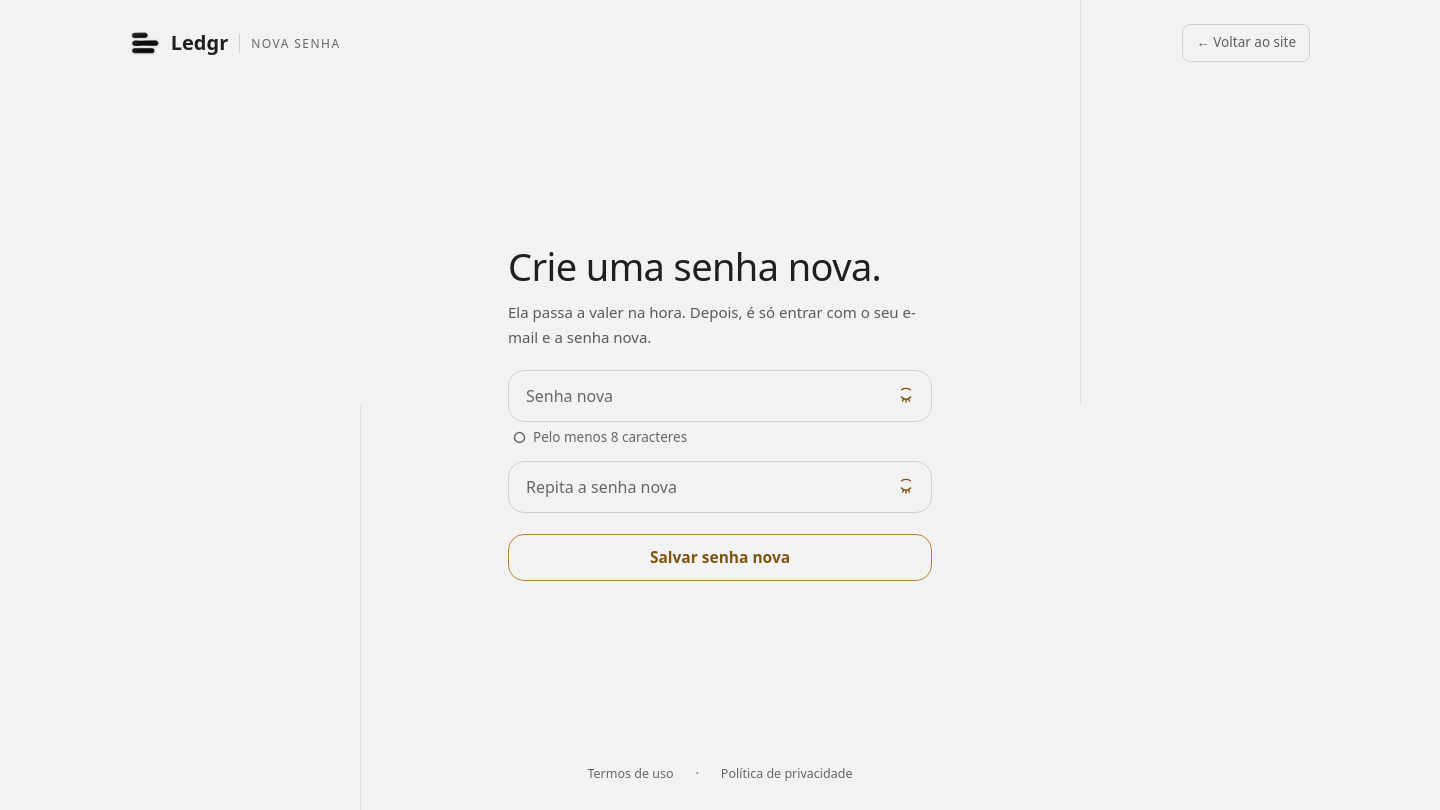
it: RedefinirSenhaPage › não envia quando a senha não passa na regra (curta)
The width and height of the screenshot is (1440, 810).
Type "curta" into the password field labelled "Senha nova" at (720, 396), box [508, 370, 932, 422]
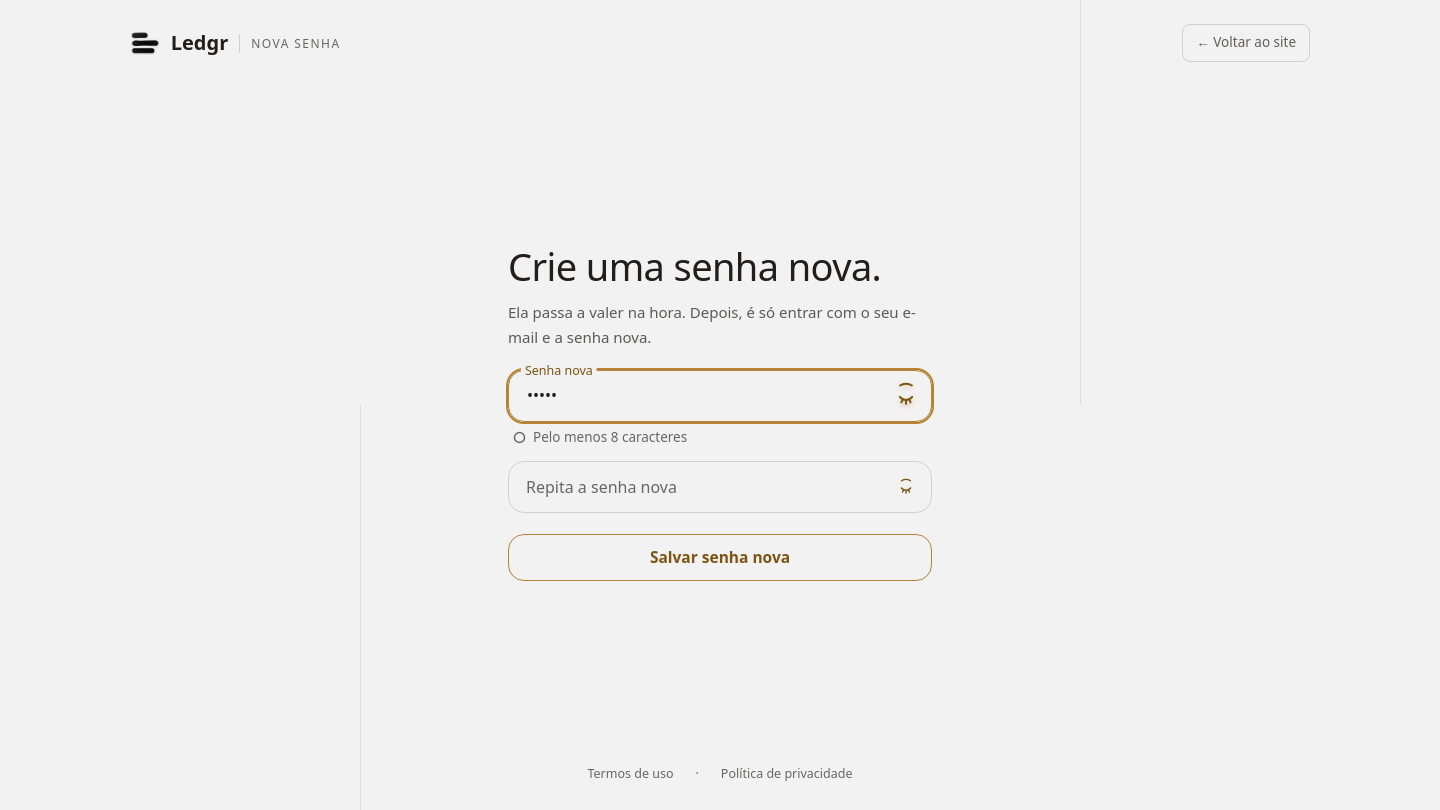
Type "curta" into the password field labelled "Repita a senha nova" at (720, 487), box [508, 461, 932, 513]
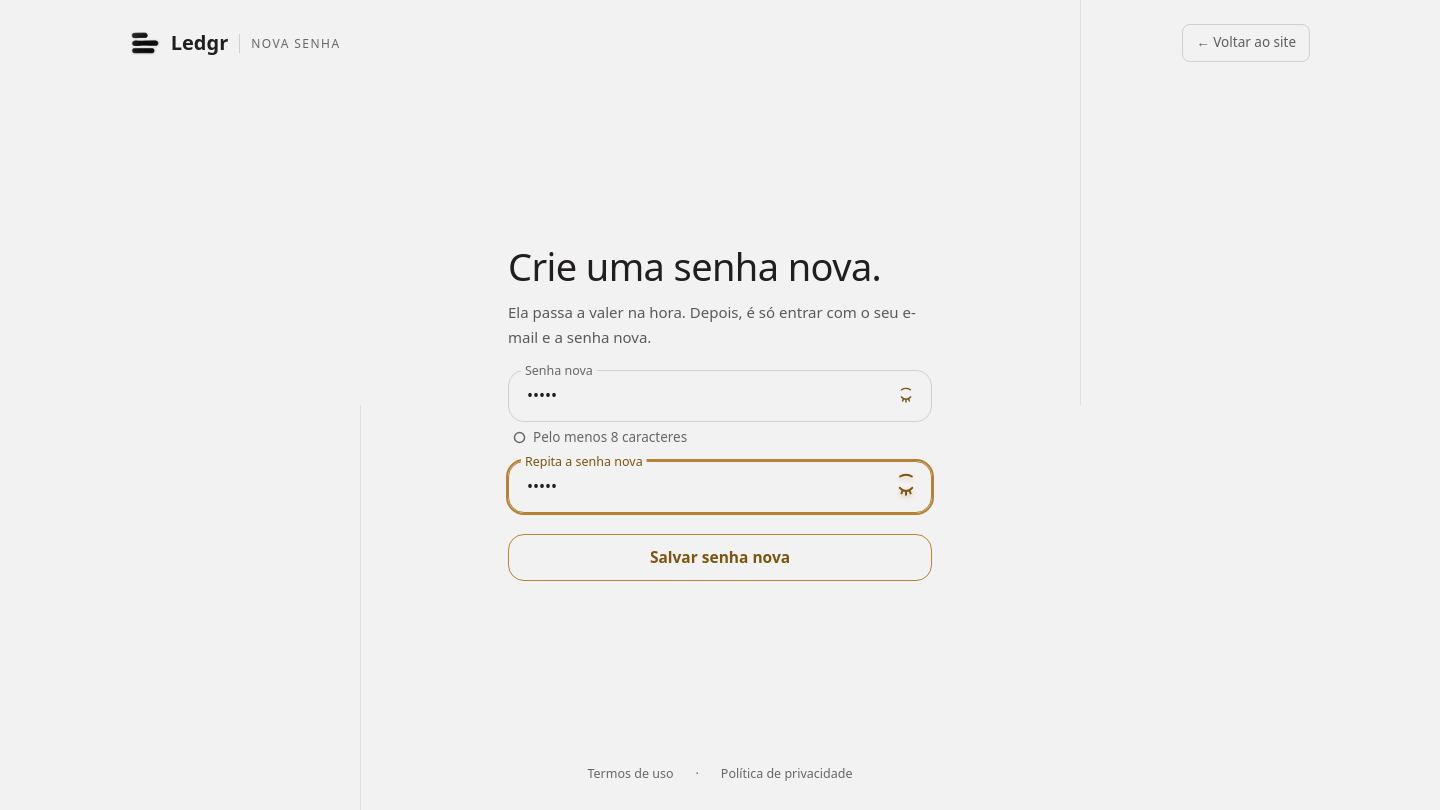
Click the button "Salvar senha nova" at (720, 557), box [508, 534, 932, 580]
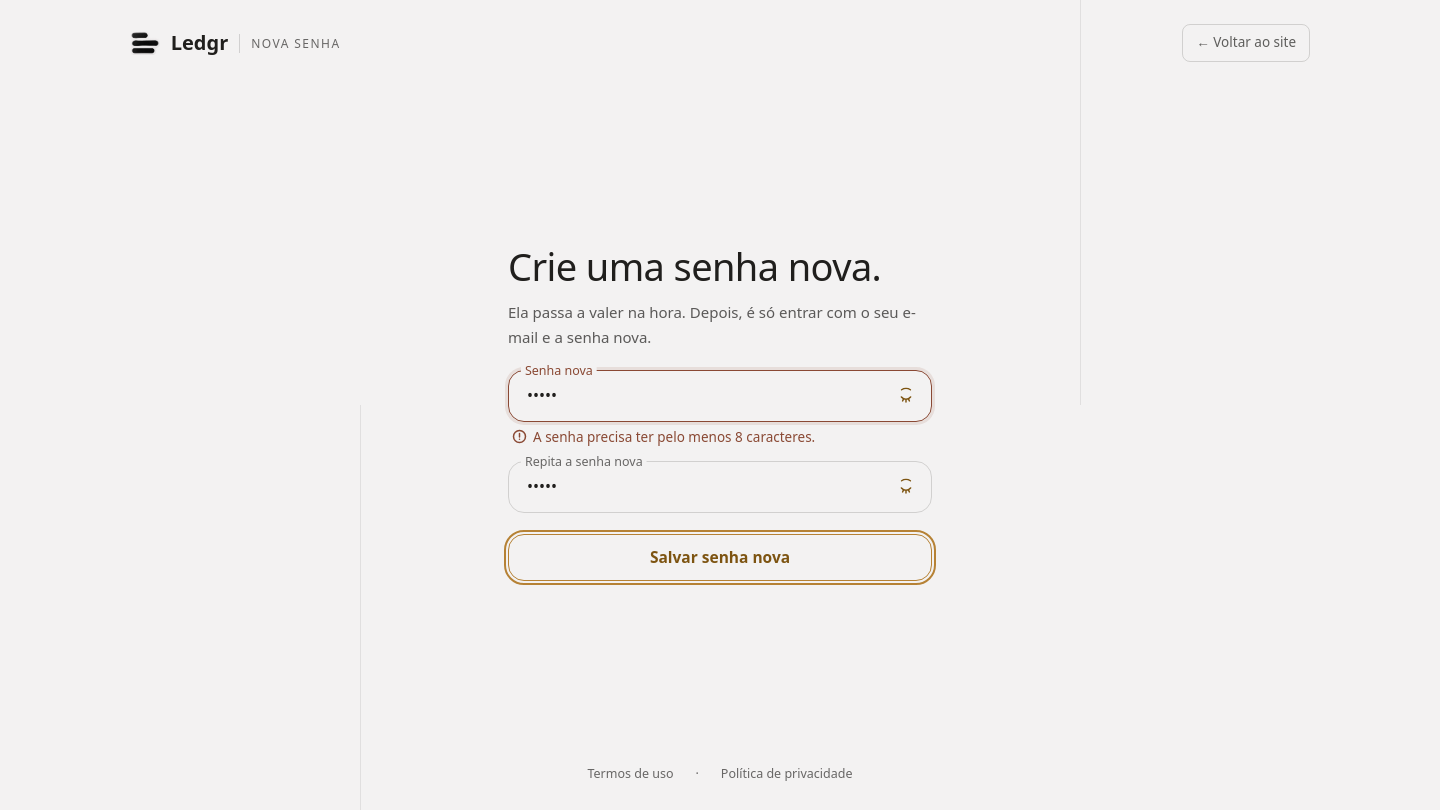
Check: the message reads "A senha precisa ter pelo menos 8 caracteres.", box [533, 428, 815, 446]
